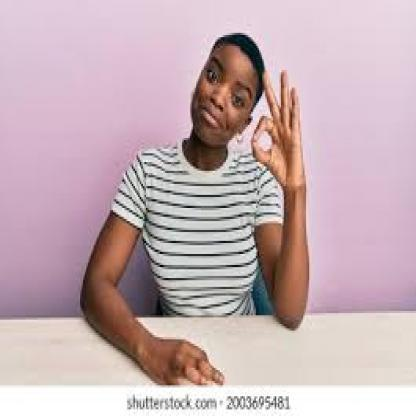ok: (248, 62, 314, 194)
